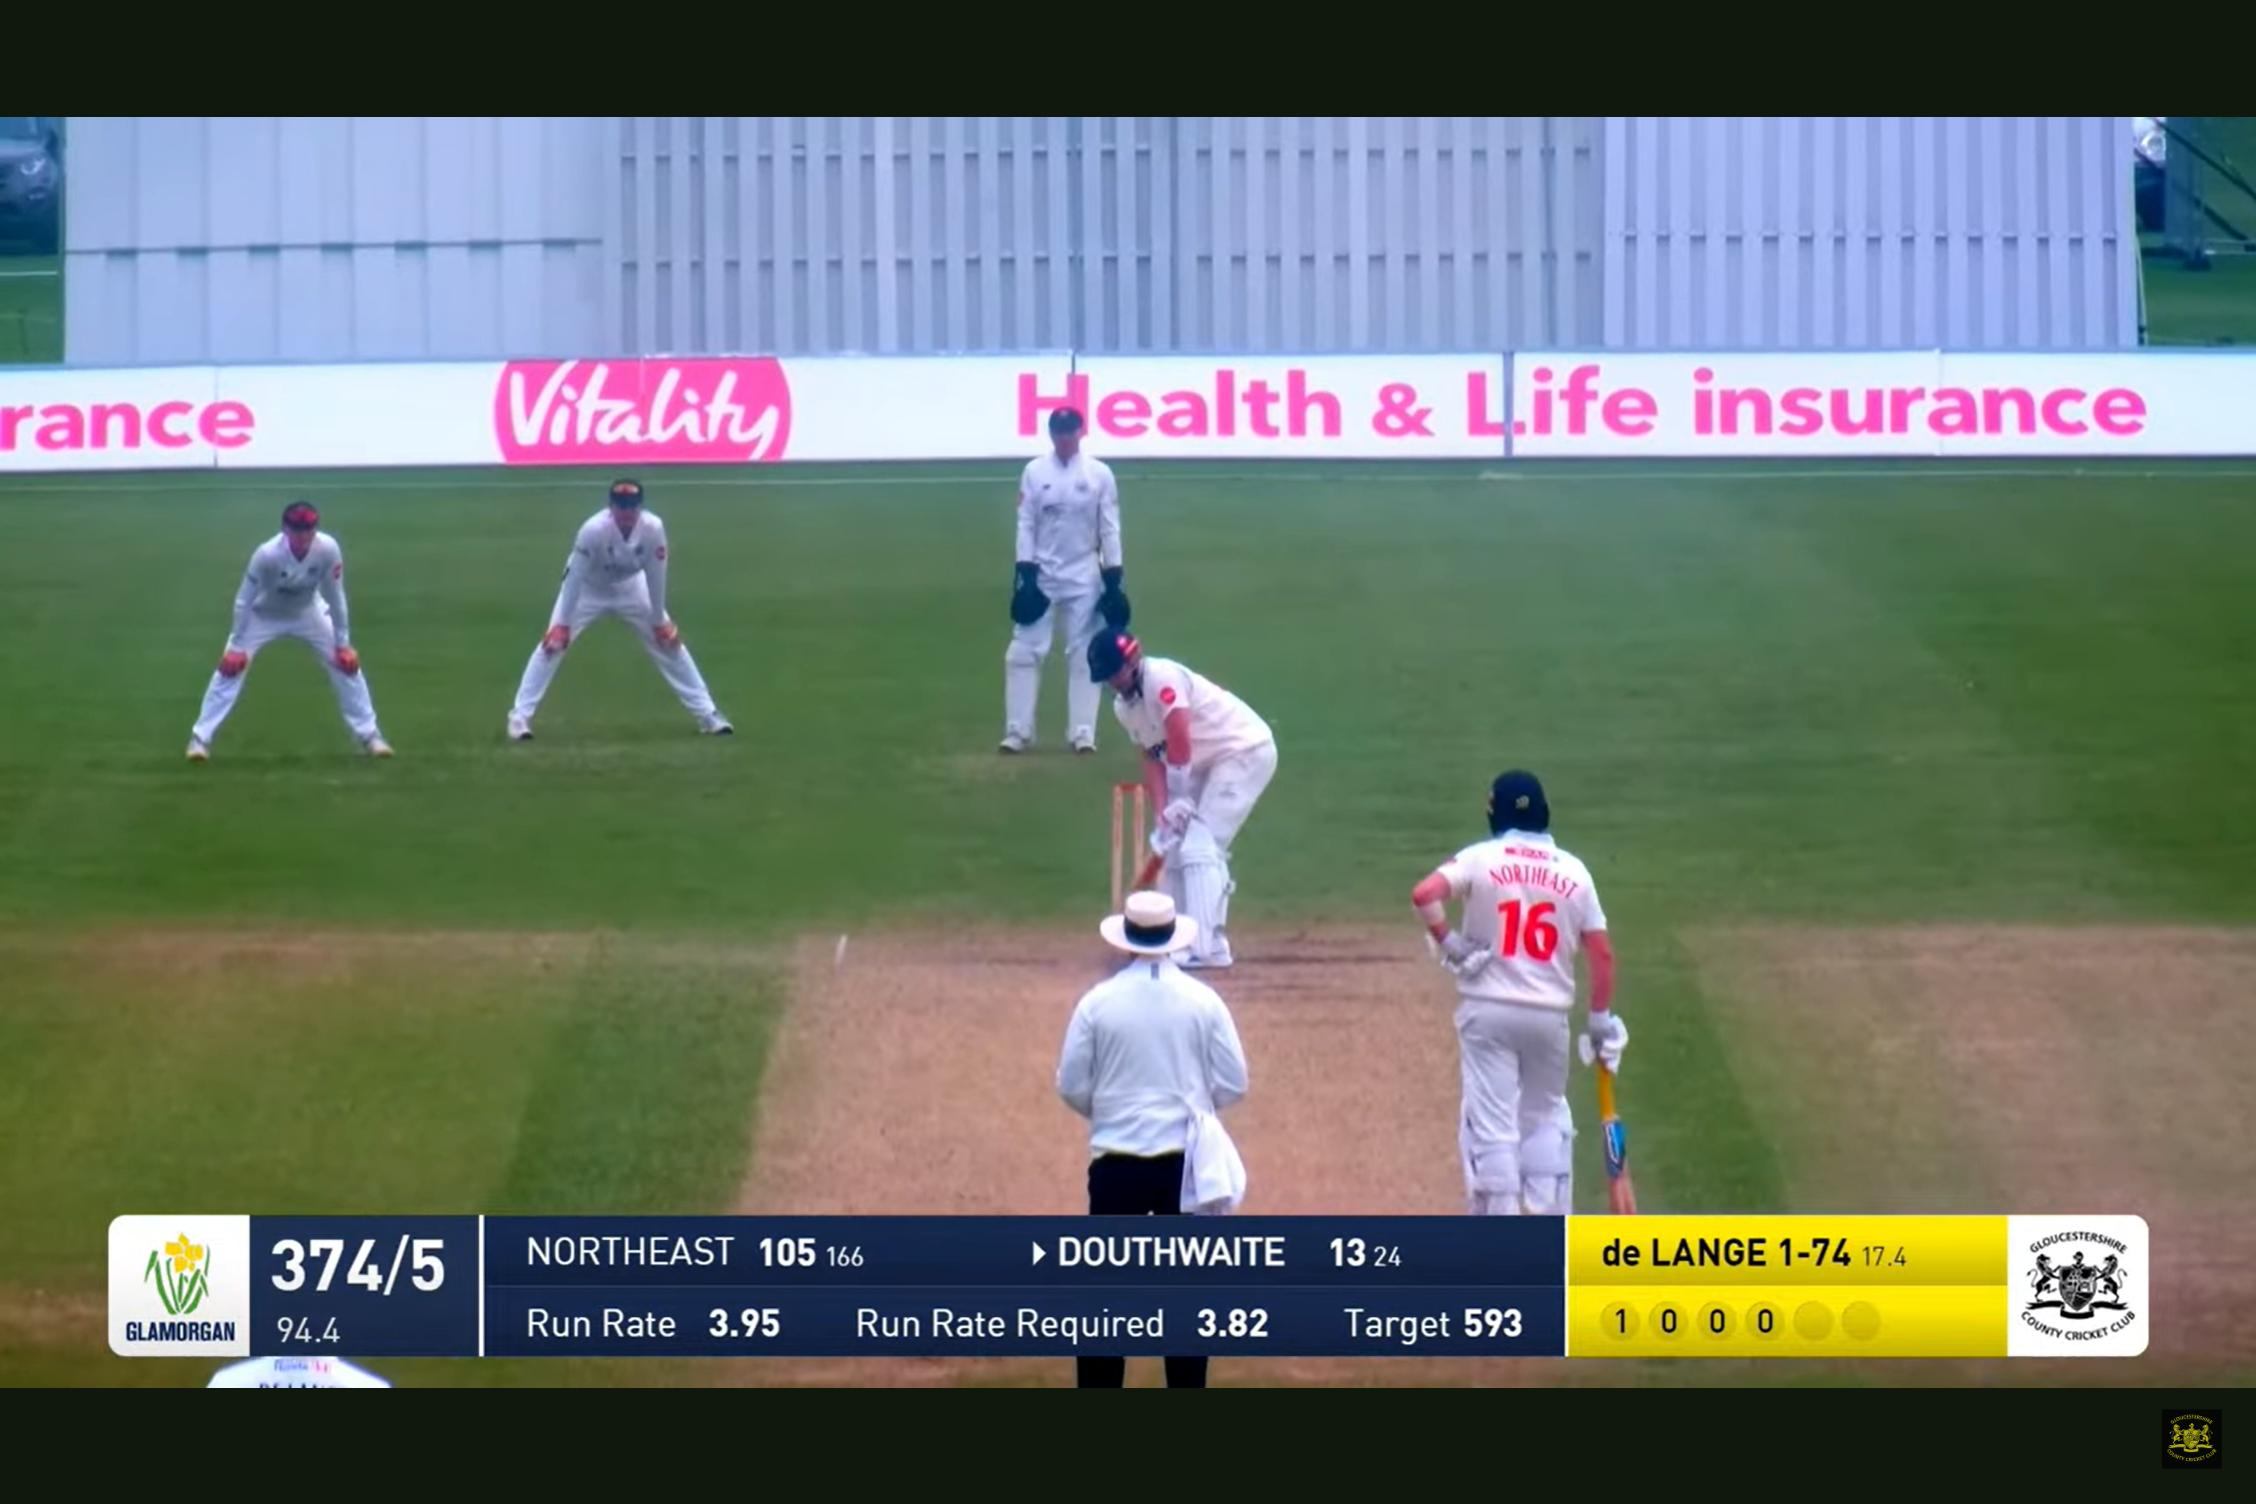batsman: (1091, 621, 1281, 885)
non striker: (1393, 744, 1627, 1193)
umpire: (1073, 891, 1276, 1209)
